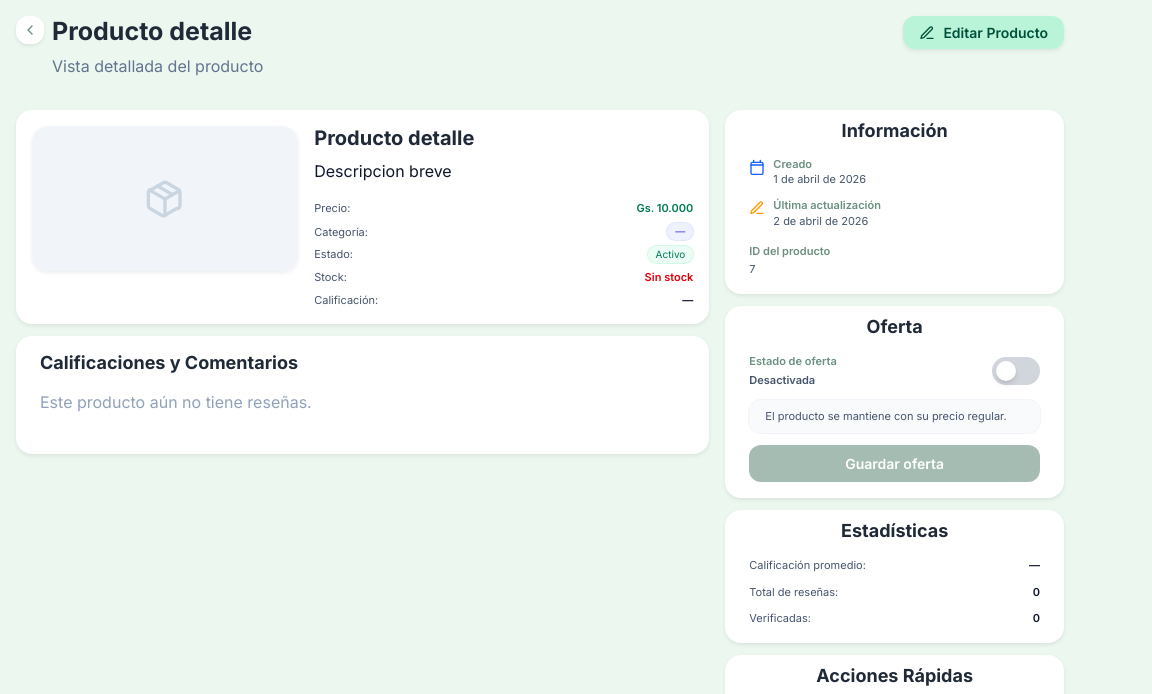
ProductDetailView › muestra validación si activan la oferta sin precio
Step 1. Click the switch named "activar oferta" → (1016, 371), box [992,357,1040,385]
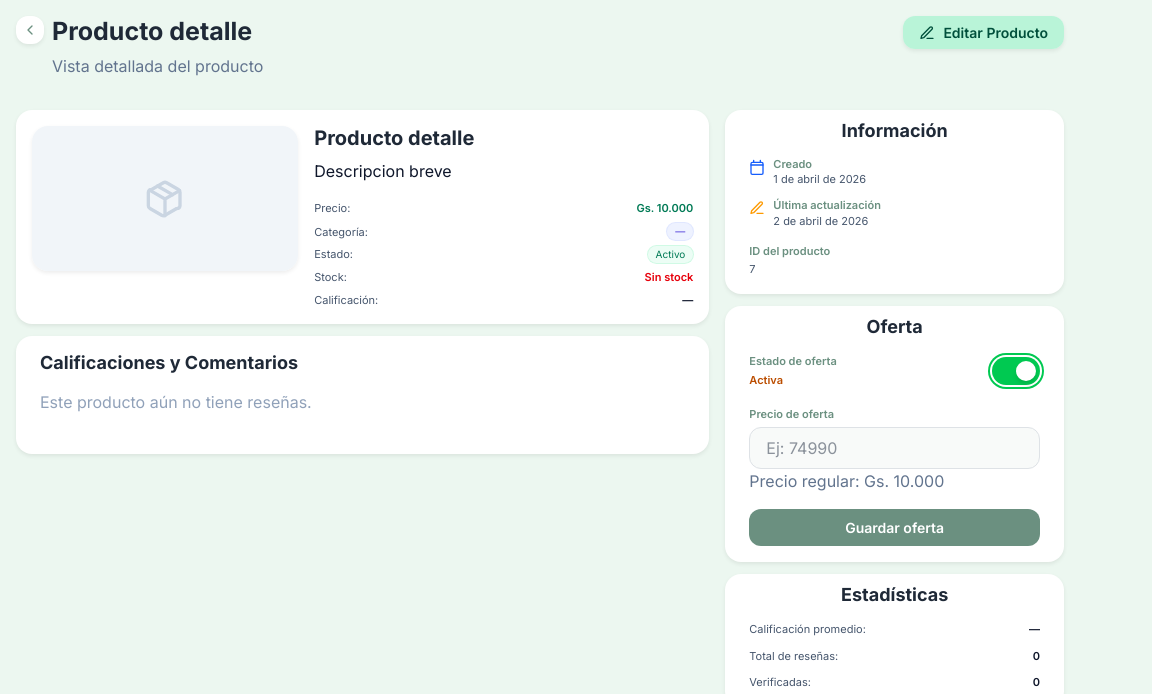
Step 2. Click the button "Guardar oferta" → (895, 527), box [749,509,1040,546]
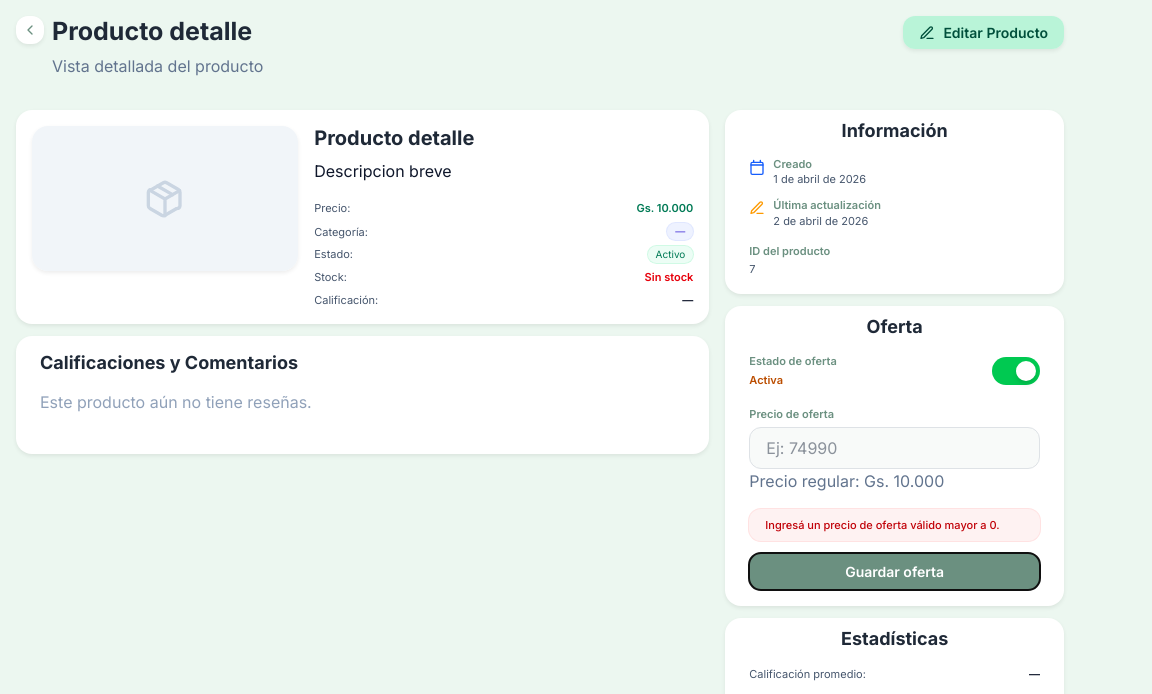
Check: the text "Ingresá un precio de oferta válido mayor a 0." is shown, box [749,509,1040,541]
